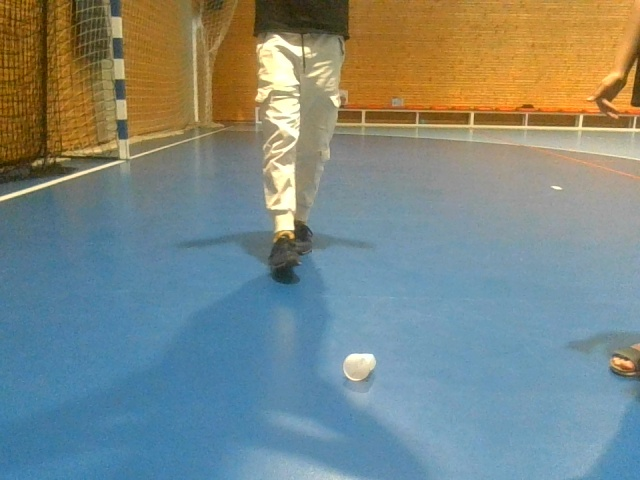plasticcup: (342, 351, 376, 382)
